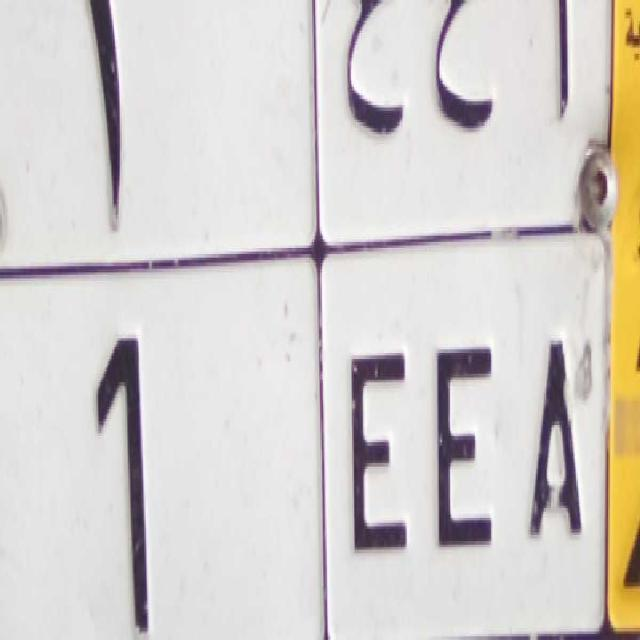license_plate: (0, 239, 606, 639)
